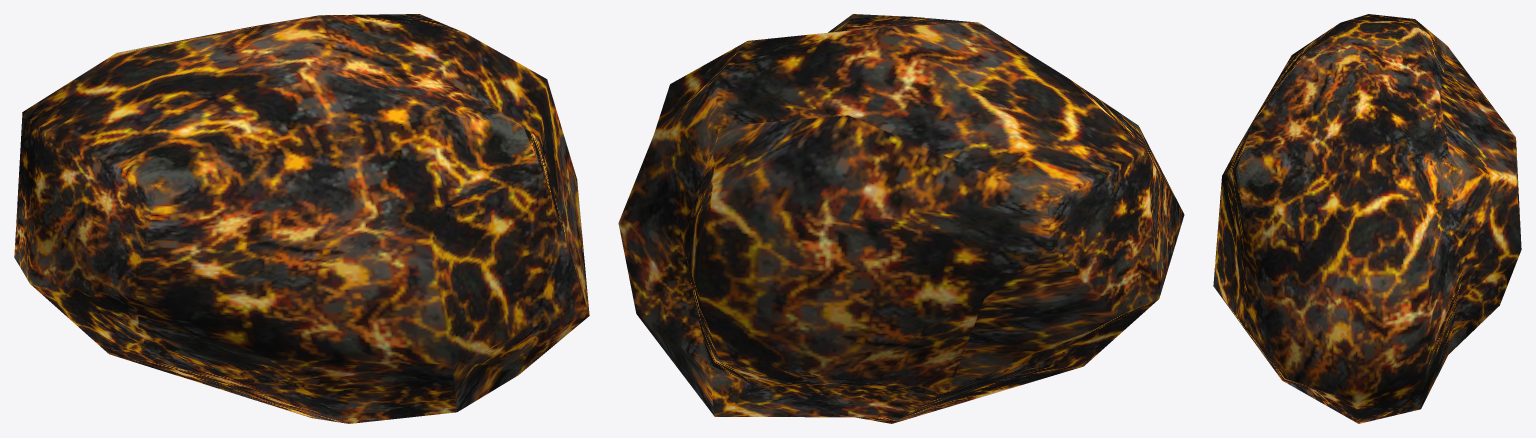
File: asteroid_moltenrock_large_s01_l3.fbx
3 views of the same model, side by side, from view 1: azimuth 30°, elevation 25°; view 2: azimuth 150°, elevation 25°; view 3: azimuth 270°, elevation 25° (orthographic). The views are drawn at different scales.
Visible parts, largest first — view 1: mesh_node; view 2: mesh_node; view 3: mesh_node.
Part boxes in pixels (x1,y1,x2,y2): mesh_node: [14, 14, 589, 423]; mesh_node: [618, 14, 1184, 423]; mesh_node: [1213, 14, 1521, 423].
Size of the model in its own units: 148 by 109 by 100.
